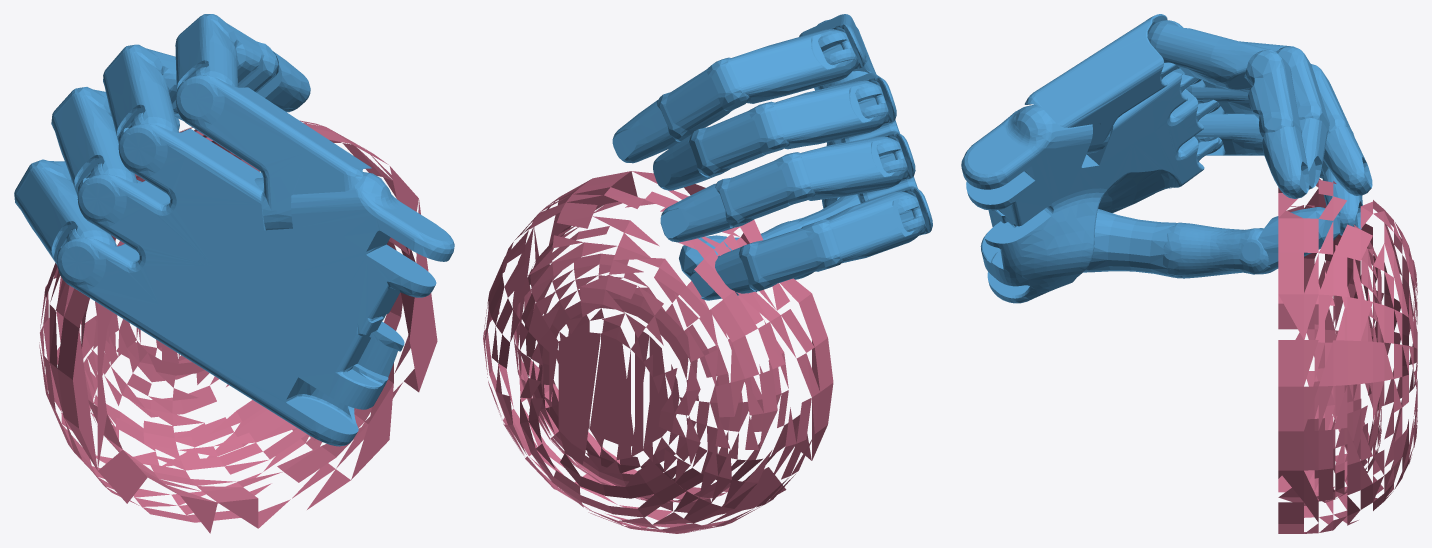
3 views of the same model, side by side, from view 1: azimuth 30°, elevation 25°; view 2: azimuth 150°, elevation 25°; view 3: azimuth 270°, elevation 25° (orthographic). The views are drawn at different scales.
Visible parts, largest first — view 1: 3; view 2: 3; view 3: 3.
Part boxes in pixels (box(x1,y1,x2,y2)): 3: box(14, 14, 454, 533); 3: box(483, 14, 932, 533); 3: box(961, 14, 1417, 533).
Bounding box in the file's own units: 0.1638 × 0.1936 × 0.1777.
